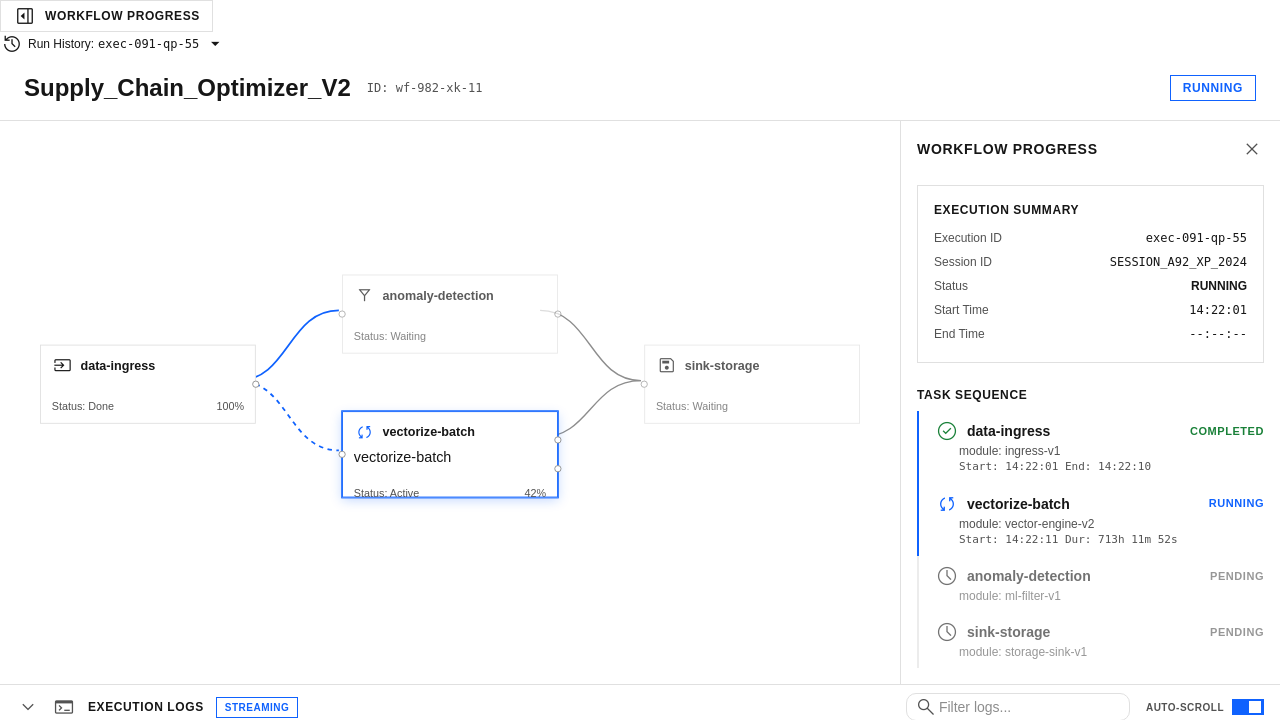
Test: WorkflowDetailsPage › closes and reopens the progress panel
expect the element with test id "progress-panel" is shown: met, box [900, 121, 1279, 684]
Click the button named "close workflow progress": coordinates (1252, 149) [1240, 137, 1264, 161]
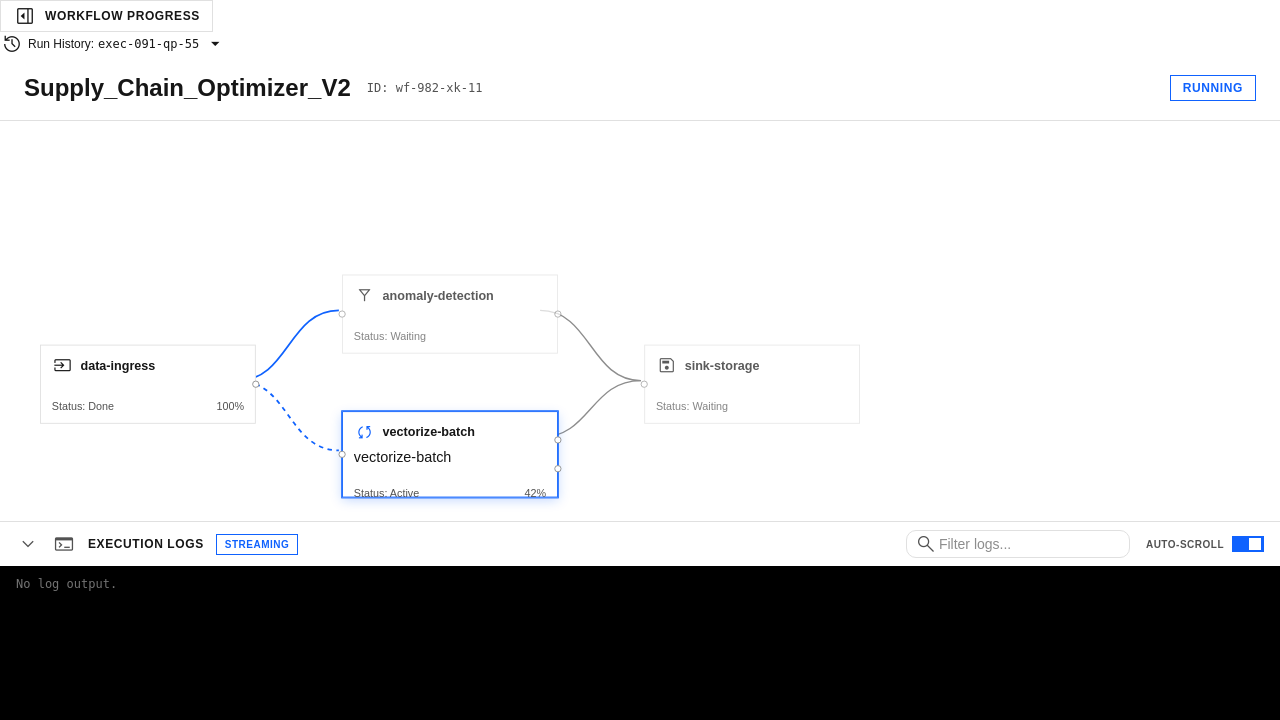
expect the element with test id "progress-panel" is gone: met
Click the button "WORKFLOW PROGRESS": coordinates (106, 16) [0, 0, 213, 32]
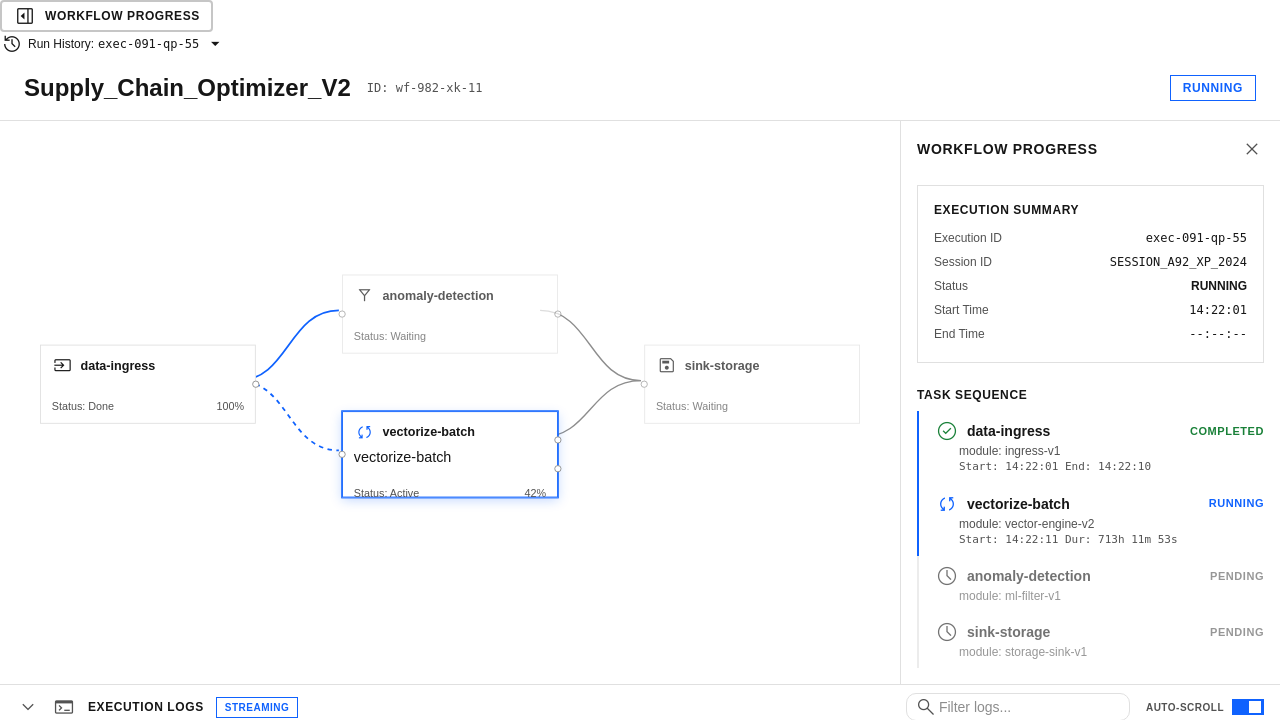
expect the element with test id "progress-panel" is shown: met, box [900, 121, 1279, 684]
